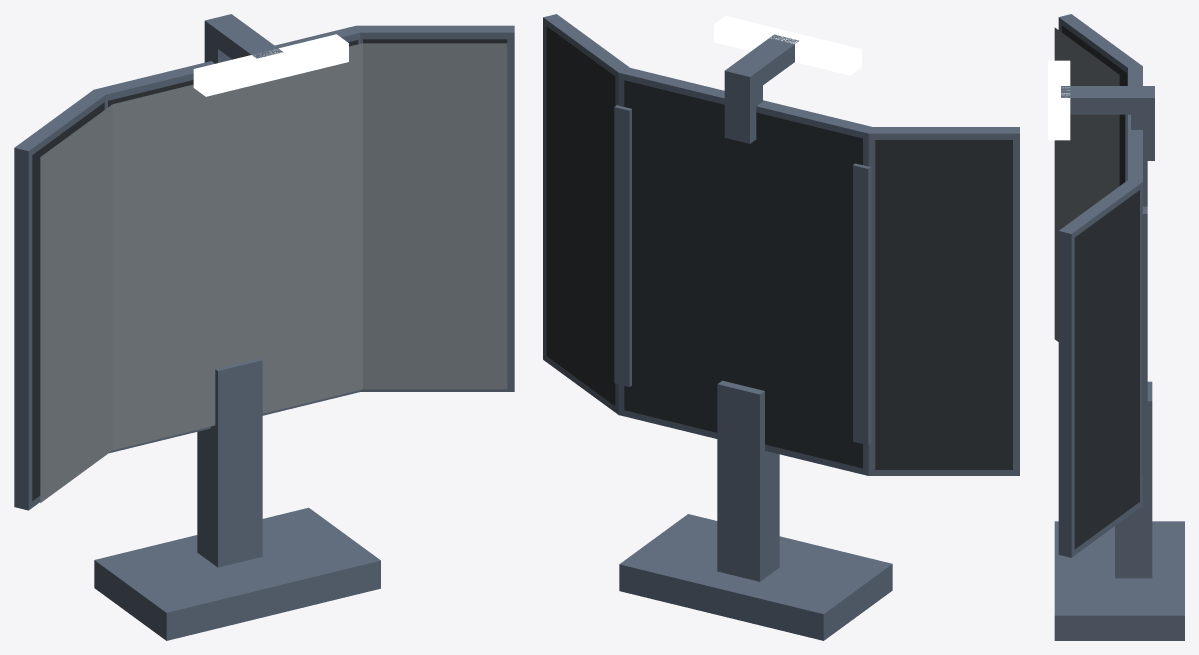
The picture shows the model from 3 angles, left to right: view 1: azimuth 30°, elevation 25°; view 2: azimuth 150°, elevation 25°; view 3: azimuth 270°, elevation 25°; orthographic projection. The views are drawn at different scales.
Visible parts, largest first — view 1: makeup-face-center, makeup-face-right, makeup-face-left, makeup-base, makeup-post, makeup-frame-left, makeup-frame-right, makeup-lamp, makeup-back-left, makeup-frame-center, makeup-lamp-arm, makeup-back-right; view 2: makeup-back-center, makeup-back-left, makeup-back-right, makeup-base, makeup-post, makeup-frame-left, makeup-hinge-left, makeup-frame-center, makeup-hinge-right, makeup-lamp, makeup-frame-right, makeup-lamp-arm (+1 smaller); view 3: makeup-back-right, makeup-base, makeup-face-left, makeup-frame-right, makeup-post, makeup-lamp-arm, makeup-hinge-right, makeup-lamp, makeup-frame-left, makeup-frame-center, makeup-back-left, makeup-lamp-riser (+1 smaller).
Boxes of the visible parts, <box> form: makeup-face-center: <box>112,43,362,450</box>; makeup-face-right: <box>363,43,507,389</box>; makeup-face-left: <box>40,104,112,502</box>; makeup-base: <box>94,507,380,640</box>; makeup-post: <box>197,358,262,567</box>; makeup-frame-left: <box>14,90,105,510</box>; makeup-frame-right: <box>355,25,514,391</box>; makeup-lamp: <box>193,34,348,96</box>; makeup-back-left: <box>32,102,104,500</box>; makeup-frame-center: <box>93,26,363,453</box>; makeup-lamp-arm: <box>204,14,283,59</box>; makeup-back-right: <box>363,39,507,43</box>; makeup-back-center: <box>624,80,862,468</box>; makeup-back-left: <box>875,140,1012,469</box>; makeup-back-right: <box>546,26,615,405</box>; makeup-base: <box>619,514,892,640</box>; makeup-post: <box>717,380,779,581</box>; makeup-frame-left: <box>868,127,1019,475</box>; makeup-hinge-left: <box>853,163,871,445</box>; makeup-frame-center: <box>618,67,875,475</box>; makeup-hinge-right: <box>614,105,631,386</box>; makeup-lamp: <box>714,16,861,75</box>; makeup-frame-right: <box>543,14,629,414</box>; makeup-lamp-arm: <box>724,34,798,94</box>; makeup-back-right: <box>1074,190,1139,549</box>; makeup-base: <box>1054,521,1184,640</box>; makeup-face-left: <box>1054,27,1119,341</box>; makeup-frame-right: <box>1058,179,1142,557</box>; makeup-post: <box>1115,381,1152,578</box>; makeup-lamp-arm: <box>1061,86,1154,114</box>; makeup-hinge-right: <box>1141,206,1147,475</box>; makeup-lamp: <box>1048,60,1070,140</box>; makeup-frame-left: <box>1058,14,1142,85</box>; makeup-frame-center: <box>1128,66,1142,181</box>; makeup-back-left: <box>1062,26,1126,185</box>; makeup-lamp-riser: <box>1131,103,1154,160</box>.
Size of the model in its own units: 0.5596 by 0.595 by 0.147.
